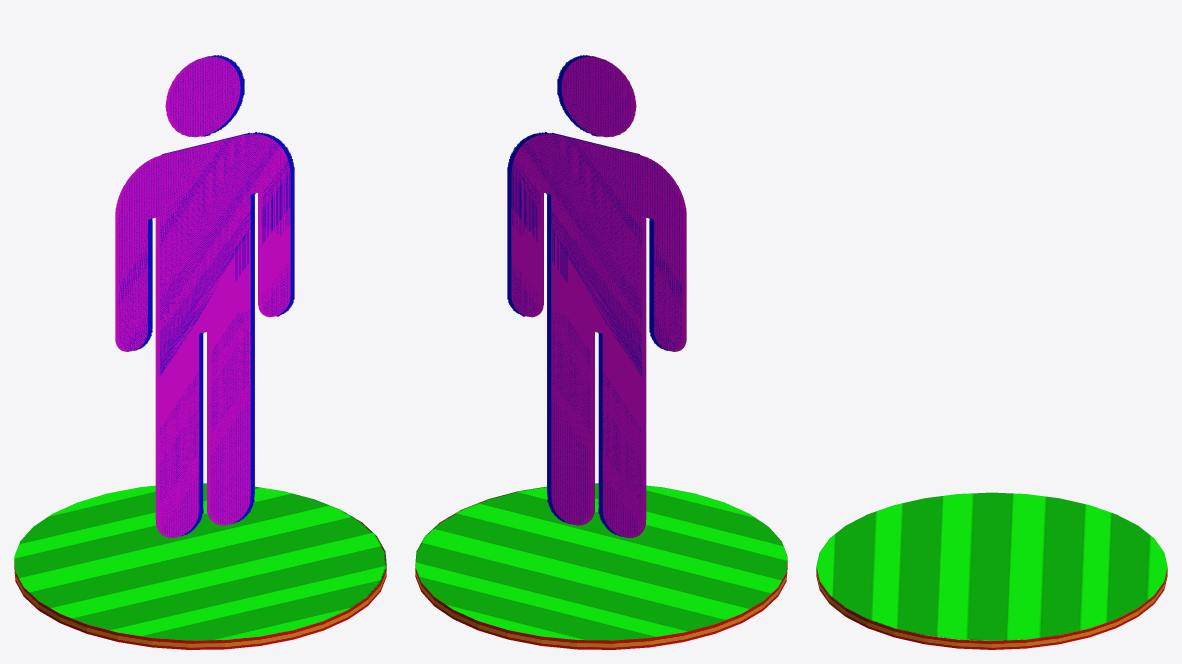
Rendered from tt_token3.obj.
3 renders of one model, left to right at view 1: azimuth 30°, elevation 25°; view 2: azimuth 150°, elevation 25°; view 3: azimuth 270°, elevation 25°, orthographic. The views are drawn at different scales.
Visible parts, largest first — view 1: 2figure_Plane_Plane.000, 1base_Plane_Plane.002; view 2: 2figure_Plane_Plane.000, 1base_Plane_Plane.002; view 3: 1base_Plane_Plane.002.
Part boxes in pixels (x1=…): 2figure_Plane_Plane.000: x1=115, y1=55, x2=294, y2=537; 1base_Plane_Plane.002: x1=14, y1=483, x2=386, y2=649; 2figure_Plane_Plane.000: x1=507, y1=55, x2=686, y2=537; 1base_Plane_Plane.002: x1=415, y1=483, x2=787, y2=649; 1base_Plane_Plane.002: x1=816, y1=492, x2=1167, y2=649.
Bounding box in the file's own units: 0.9259 × 1.42 × 0.9259.
